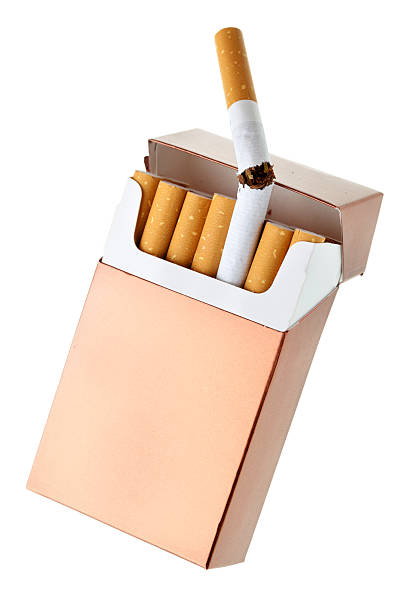cigarette: (20, 129, 384, 567), (214, 26, 276, 178), (218, 179, 277, 286), (191, 189, 238, 277), (137, 179, 188, 258), (166, 188, 214, 266), (245, 218, 295, 292), (120, 167, 164, 246), (290, 227, 326, 245)
